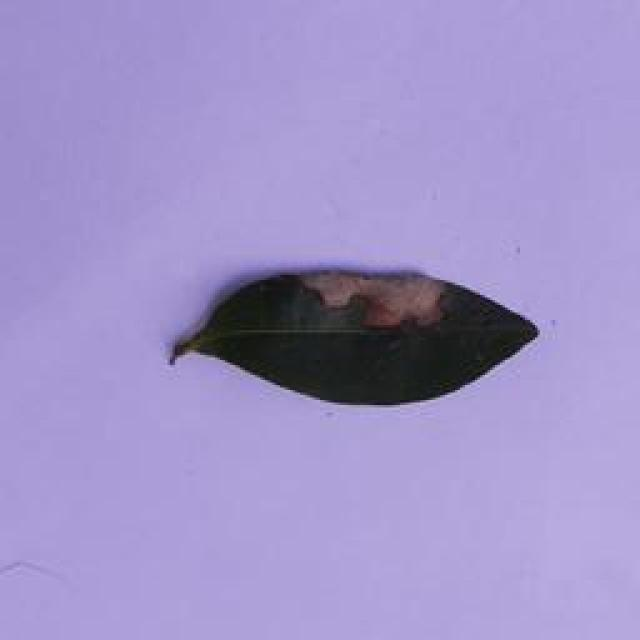Gray Blight: (152, 268, 544, 412)
